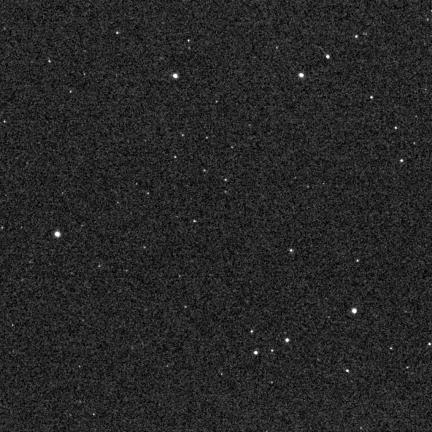blob: (54, 231, 61, 237), (173, 73, 178, 79), (352, 308, 357, 313), (285, 338, 290, 343), (299, 73, 304, 78), (254, 351, 258, 355), (390, 347, 394, 351), (400, 159, 404, 163), (346, 369, 350, 373), (370, 96, 374, 100), (271, 349, 274, 353), (326, 55, 329, 59), (251, 330, 254, 334), (355, 36, 359, 39), (395, 127, 398, 130), (290, 249, 293, 252)
